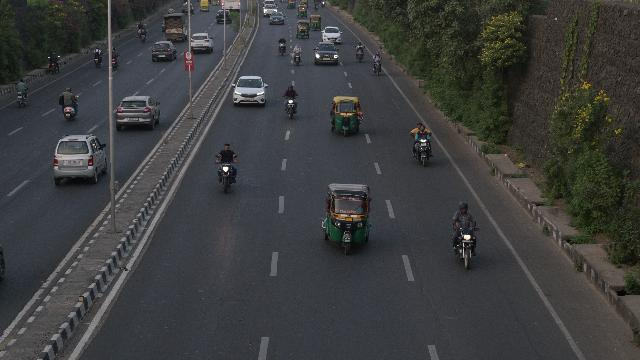With Helmet: (457, 199, 469, 216), (286, 84, 294, 92), (374, 50, 380, 56), (358, 42, 362, 46)
Without Helmet: (223, 142, 230, 152), (419, 124, 427, 132), (416, 123, 422, 129), (280, 35, 284, 39), (296, 44, 298, 48)
